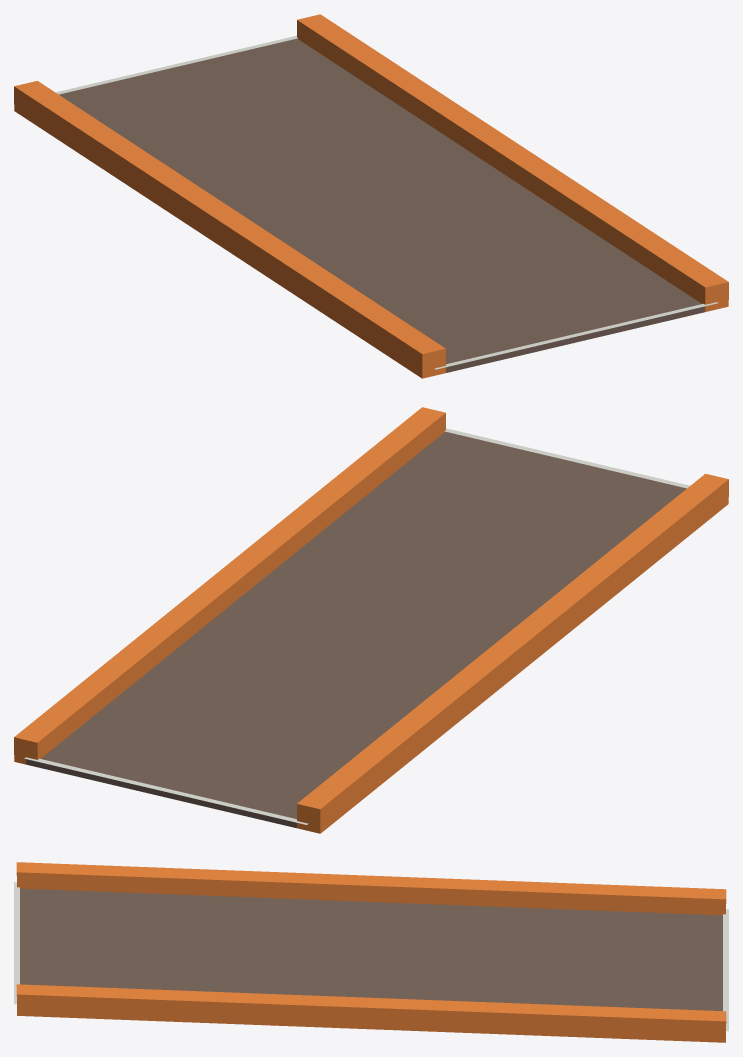
File: SM_MP_Film_A_1_1.fbx
The picture shows the model from 3 angles, top to bottom: view 1: azimuth 30°, elevation 25°; view 2: azimuth 150°, elevation 25°; view 3: azimuth 270°, elevation 25°; orthographic projection. The views are drawn at different scales.
Visible parts, largest first — view 1: SM_MP_Film_A_1_1; view 2: SM_MP_Film_A_1_1; view 3: SM_MP_Film_A_1_1.
Boxes of the visible parts, x1,y1,x2,y2 form: SM_MP_Film_A_1_1: (14, 14, 728, 378); SM_MP_Film_A_1_1: (14, 407, 728, 833); SM_MP_Film_A_1_1: (14, 862, 728, 1042).
Size of what is drawn, in the model's own units: 260 by 605 by 47.45.
